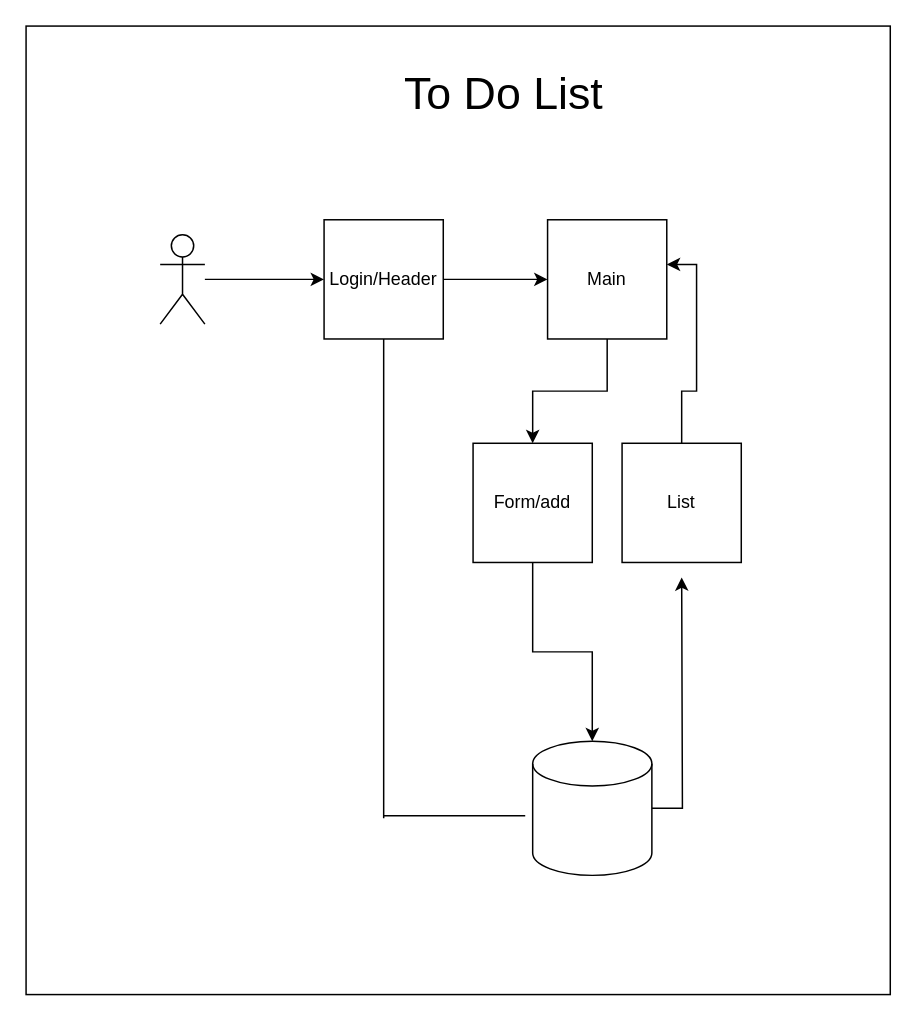
This 916x1021 diagram has some shape labels left out. The shapes that lost their labels are listed below. From the top down, each one's box as (x1, y1, x2, y2) in pixels, then its label:
(159, 233, 205, 324): Client
(531, 740, 652, 875): User DB To do DB
